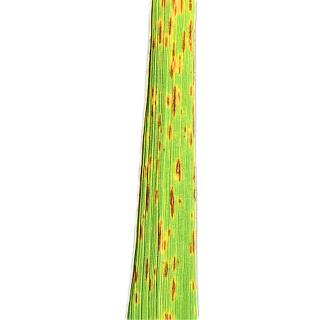Bercak-Cokelat-Sempit: (138, 157, 164, 308), (167, 228, 203, 316), (158, 1, 196, 80), (149, 82, 203, 126), (156, 128, 206, 152), (167, 187, 183, 219), (177, 162, 186, 184)
